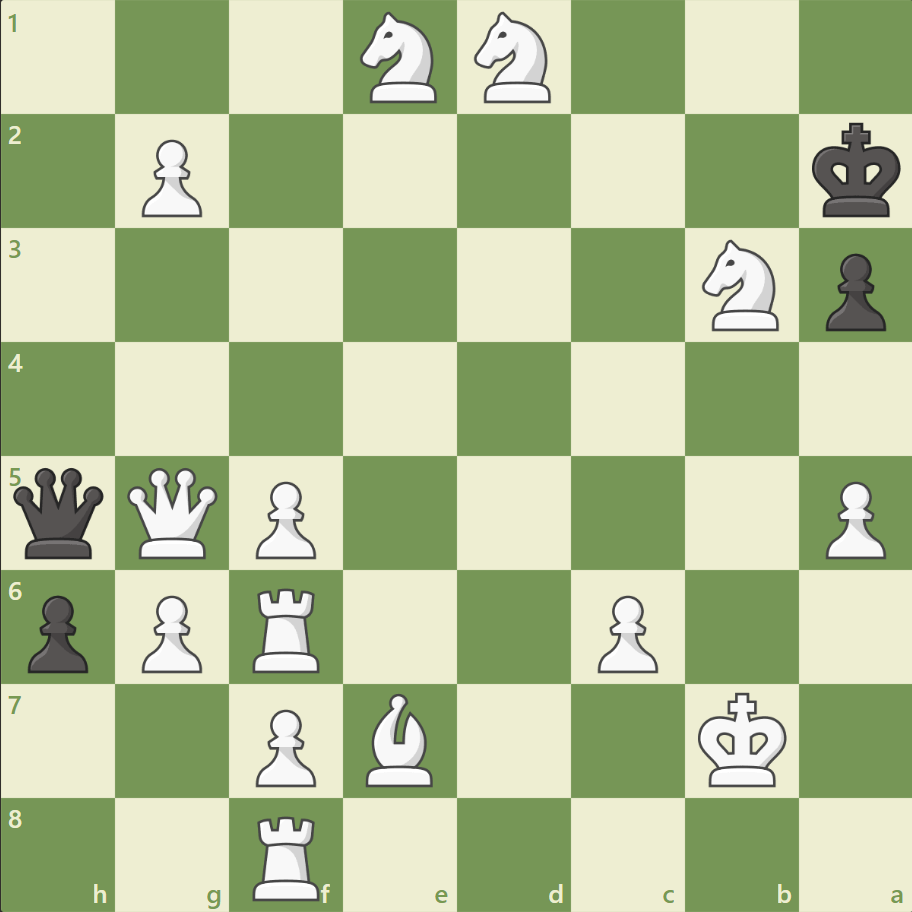B: (358, 687, 442, 790)
K: (692, 685, 792, 793)
N: (351, 7, 449, 110), (692, 234, 789, 337), (465, 7, 562, 110)
P: (247, 700, 322, 791), (133, 586, 208, 677), (247, 473, 322, 564), (133, 132, 208, 223), (588, 586, 662, 677), (815, 473, 889, 564)
Q: (124, 463, 223, 562)
R: (246, 806, 329, 904), (246, 579, 329, 676)
k: (806, 117, 906, 225)
p: (20, 586, 95, 677), (815, 246, 889, 337)
q: (10, 463, 109, 562)
